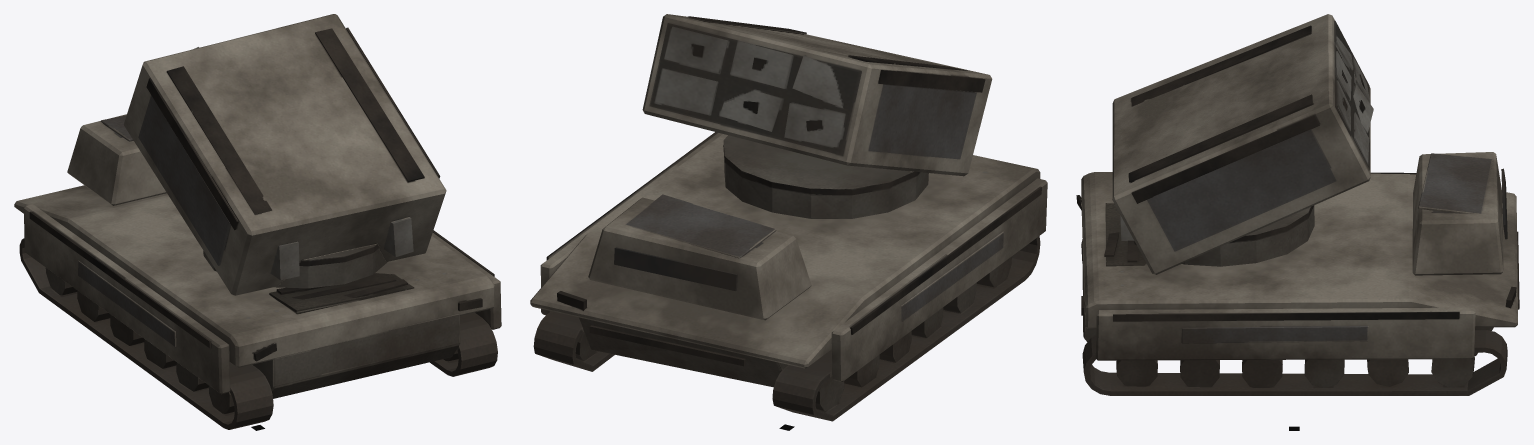
Rendered from ord_judgement_wreck.fbx.
3 renders of one model, left to right at view 1: azimuth 30°, elevation 25°; view 2: azimuth 150°, elevation 25°; view 3: azimuth 270°, elevation 25°, orthographic. The views are drawn at different scales.
Parts seen in each view (by area): view 1: launcher_bar, base_bar, trackL_bar, turret_bar, trackR_bar; view 2: base_bar, launcher_bar, turret_bar, trackL_bar, trackR_bar; view 3: base_bar, launcher_bar, trackR_bar, turret_bar.
Boxes of the visible parts, left/top/right/bottom form: launcher_bar: left=123, top=14, right=446, bottom=295; base_bar: left=14, top=114, right=501, bottom=398; trackL_bar: left=19, top=238, right=273, bottom=429; turret_bar: left=203, top=217, right=413, bottom=288; trackR_bar: left=430, top=312, right=497, bottom=376; base_bar: left=530, top=132, right=1047, bottom=387; launcher_bar: left=642, top=14, right=992, bottom=176; turret_bar: left=723, top=135, right=928, bottom=218; trackL_bar: left=772, top=236, right=1040, bottom=421; trackR_bar: left=533, top=311, right=614, bottom=371; base_bar: left=1076, top=152, right=1519, bottom=360; launcher_bar: left=1112, top=14, right=1373, bottom=274; trackR_bar: left=1082, top=330, right=1507, bottom=395; turret_bar: left=1120, top=205, right=1314, bottom=266.
Bounding box in the file's own units: 617 × 770 × 835.
2 materials, 2 textured.
